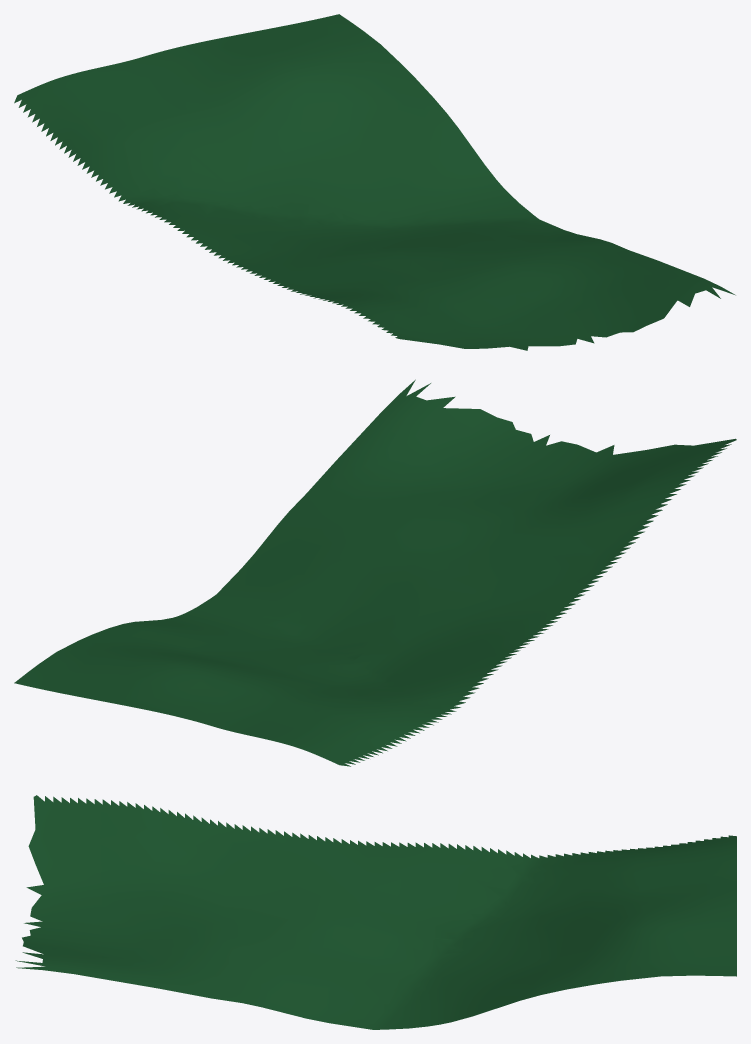
The model's file is payo_land_xm5_y3.glb.
3 views of the same model, one above another, from view 1: azimuth 30°, elevation 25°; view 2: azimuth 150°, elevation 25°; view 3: azimuth 270°, elevation 25° (orthographic). The views are drawn at different scales.
Parts seen in each view (by area): view 1: payo_land_xm5_y3; view 2: payo_land_xm5_y3; view 3: payo_land_xm5_y3.
Part boxes in pixels (x1=…): payo_land_xm5_y3: x1=14, y1=14, x2=735, y2=350; payo_land_xm5_y3: x1=14, y1=379, x2=736, y2=766; payo_land_xm5_y3: x1=15, y1=795, x2=736, y2=1029.
Bounding box in the file's own units: 126 × 35.64 × 263.
